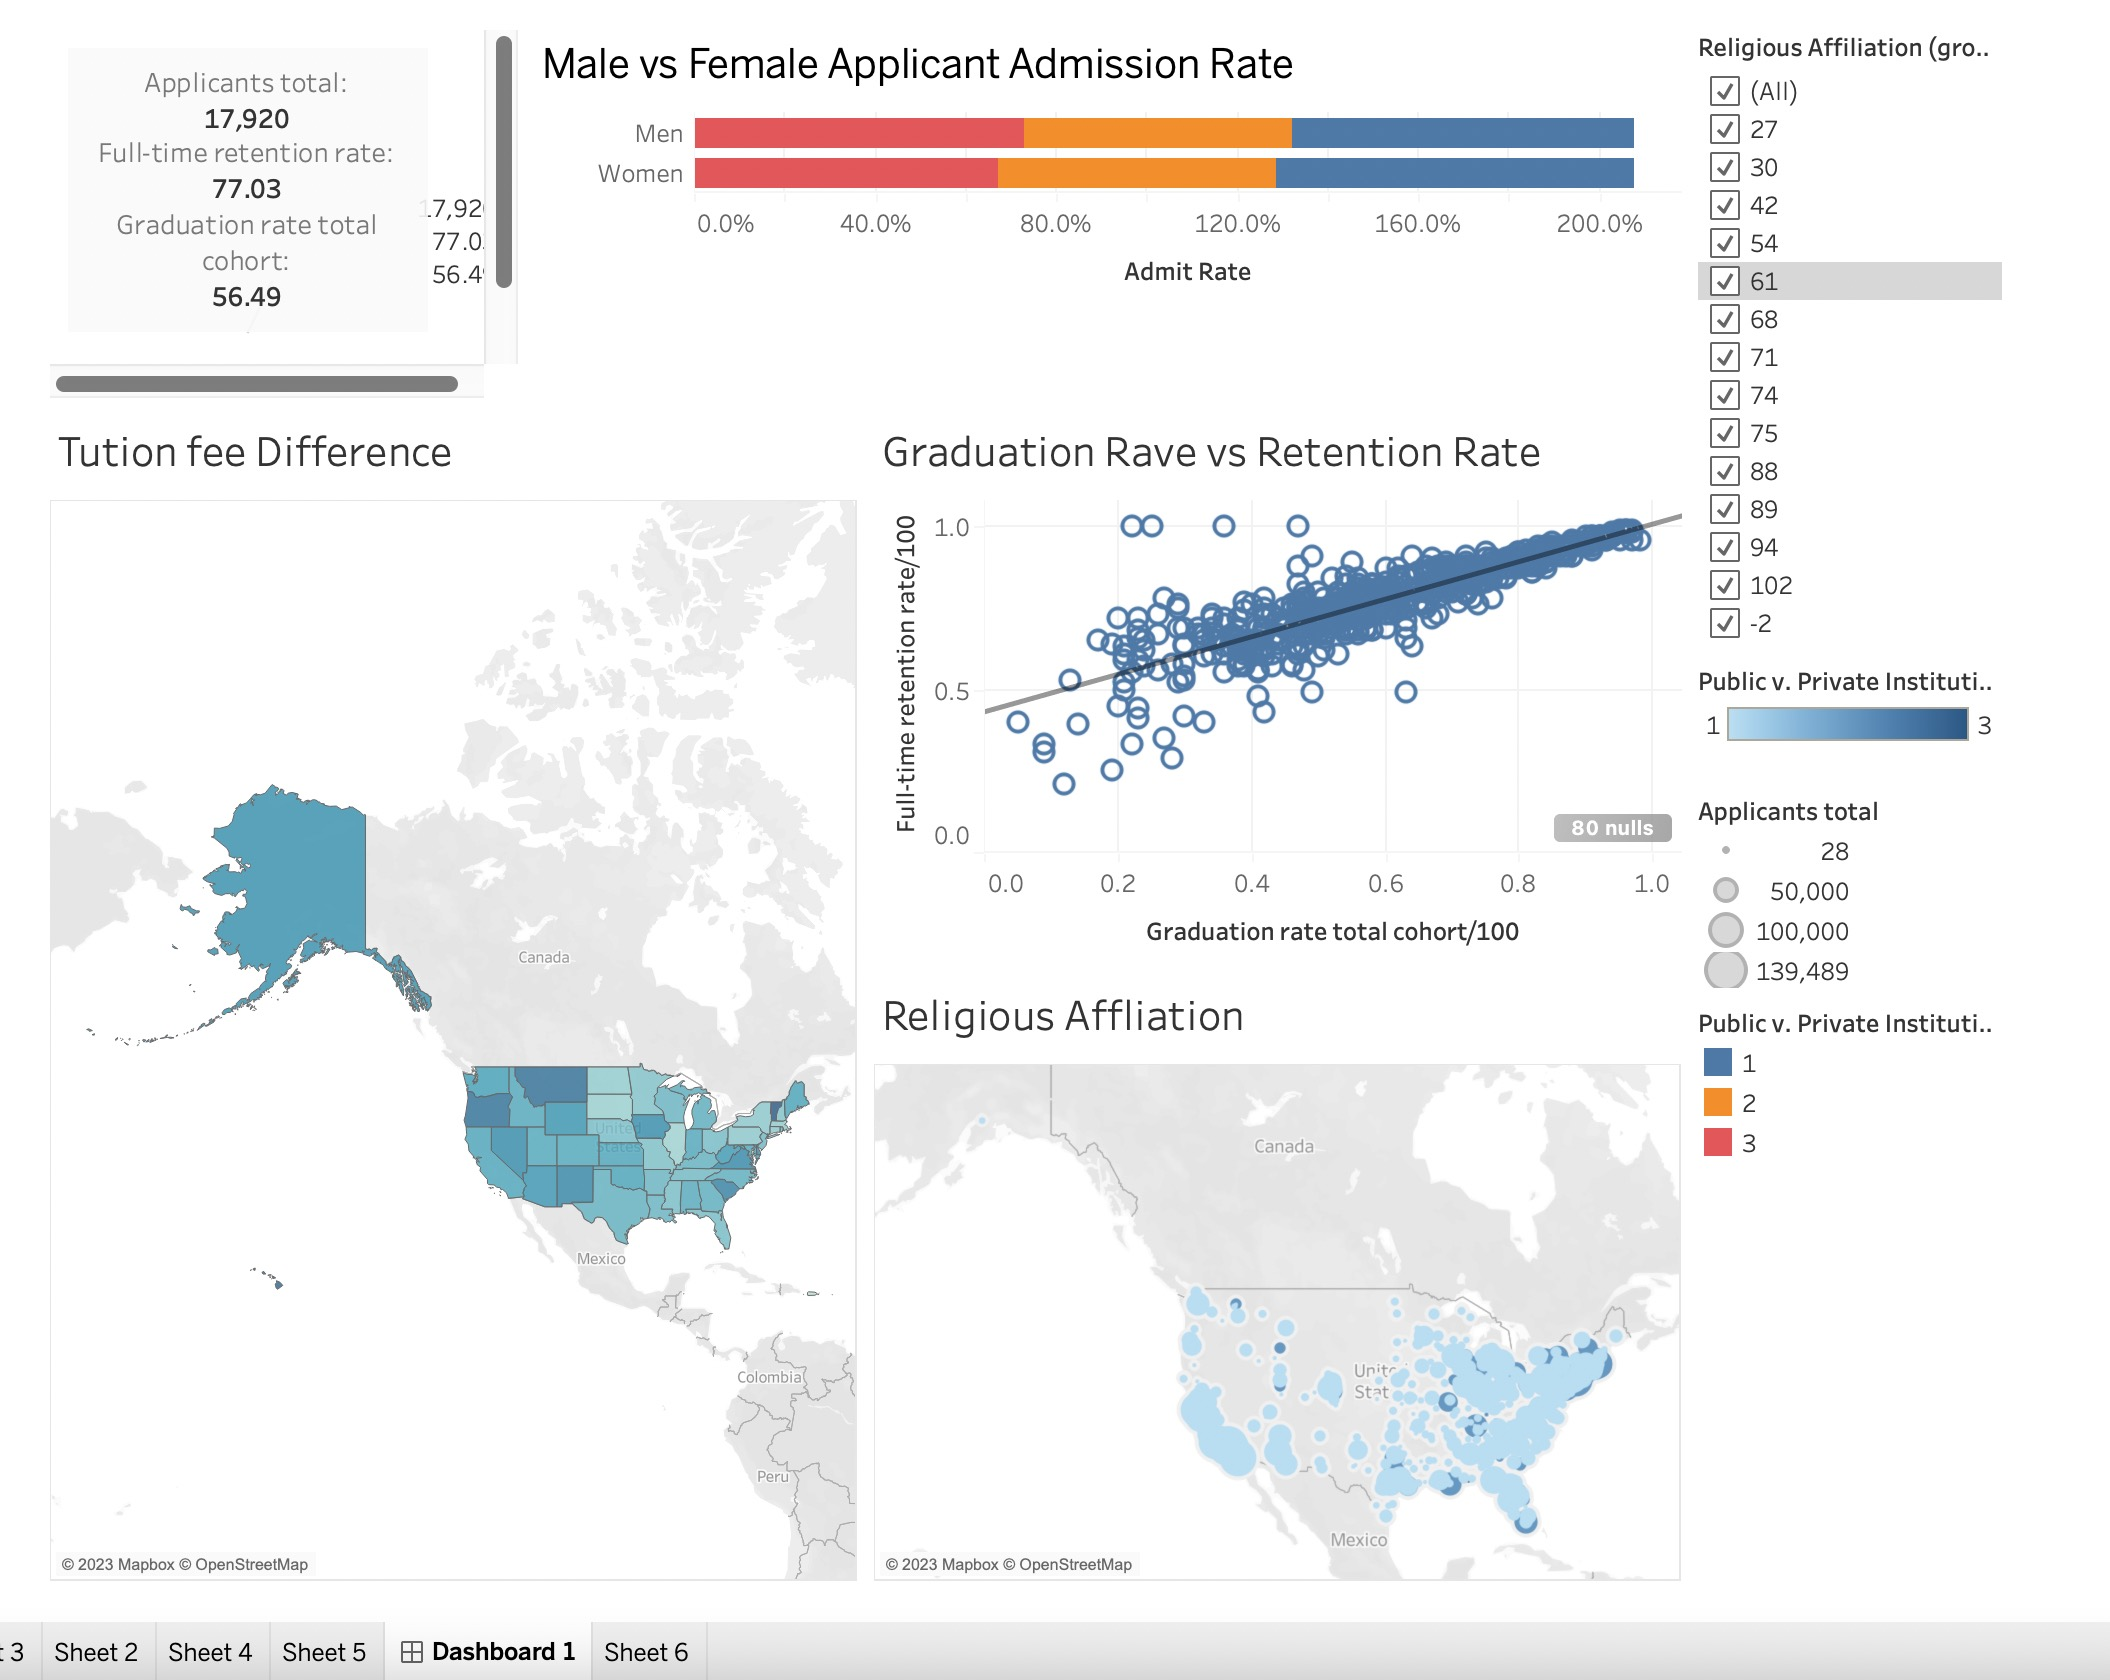

Layout of this report page (visuals, bound fields, positions):
{"tool":"tableau","page":{"name":"Dashboard 1","canvas":[1000,800],"ordinal":0},"visuals":[{"type":"worksheet","title":"Sheet 5","mark":"Automatic","box":[8,8,242,192]},{"type":"worksheet","title":"Sheet 6","mark":"Automatic","box":[250,8,582,192]},{"type":"filter","title":"Sheet 4","param":"[federated.0egaxd01gqc3z714nksrs0j5dn4w].[Religious Affiliation (group)]","box":[832,8,160,317]},{"type":"worksheet","title":"Sheet 3","mark":"Automatic","box":[8,200,412,592]},{"type":"worksheet","title":"Graduation Rave vs Retention Rate","mark":"Automatic","rows":["Calculation_1157073328830570497"],"cols":["Calculation_1157073328830562304"],"box":[420,200,412,282]},{"type":"legend","title":"Sheet 4","param":"[federated.0egaxd01gqc3z714nksrs0j5dn4w].[none:Public v. Private Institution:qk]","box":[832,325,160,65]},{"type":"legend","title":"Sheet 4","param":"[federated.0egaxd01gqc3z714nksrs0j5dn4w].[sum:Applicants total:qk]","box":[832,390,160,106]},{"type":"worksheet","title":"Sheet 4","mark":"Automatic","rows":["Latitude"],"cols":["Longitude"],"box":[420,482,412,310]},{"type":"legend","title":"Sheet 6","param":"[federated.0egaxd01gqc3z714nksrs0j5dn4w].[none:Public v. Private Institution:ok]","box":[832,496,160,86]}]}

Visuals, with their boxes on the page's 1000x800 design canvas (x1, y1, x2, y2). These are canvas units, not pixel positions in the 2110x1680 screenshot, which may show the page scaled, cropped or inside an application window:
"Sheet 5" worksheet: select_region(8, 8, 250, 200)
"Sheet 6" worksheet: select_region(250, 8, 832, 200)
"Sheet 4" filter: select_region(832, 8, 992, 325)
"Sheet 3" worksheet: select_region(8, 200, 420, 792)
"Graduation Rave vs Retention Rate" worksheet: select_region(420, 200, 832, 482)
"Sheet 4" legend: select_region(832, 325, 992, 390)
"Sheet 4" legend: select_region(832, 390, 992, 496)
"Sheet 4" worksheet: select_region(420, 482, 832, 792)
"Sheet 6" legend: select_region(832, 496, 992, 582)
